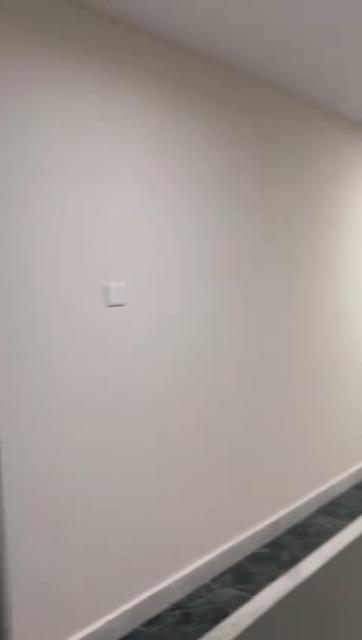floor: (118, 489, 362, 640)
wall: (0, 3, 362, 484)
